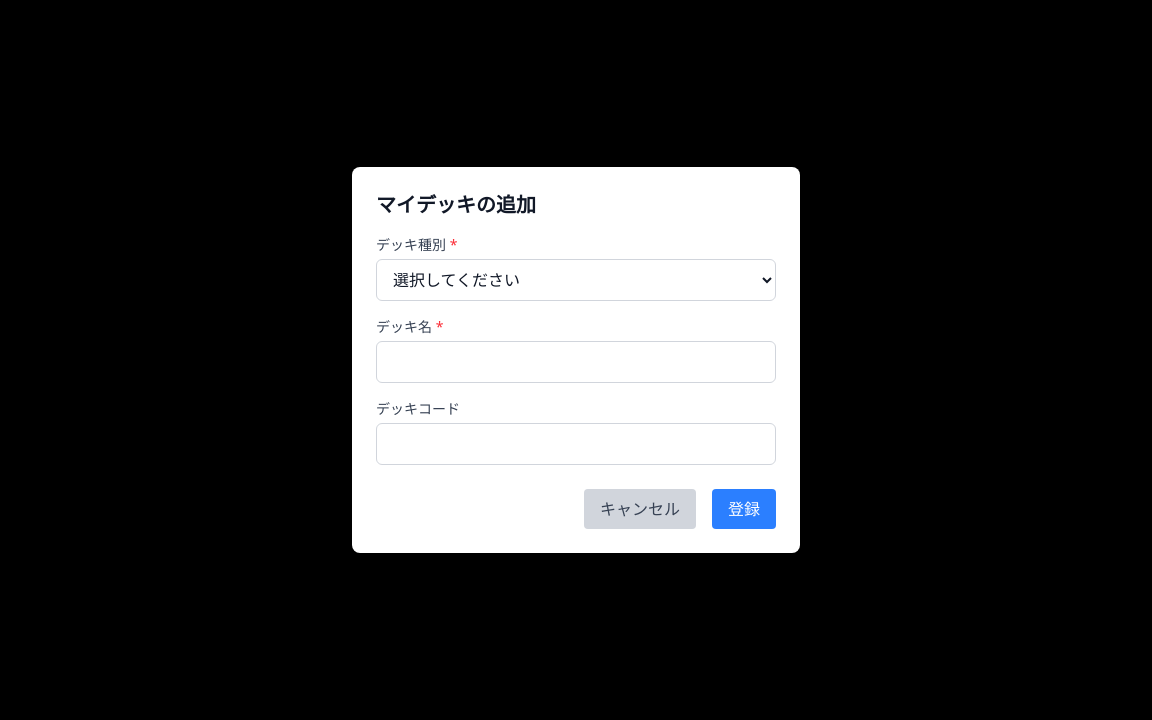
MyDeckDialog › バリデーション › TC-MD-DIALOG-006: deckId未選択で登録ボタン押下時にエラー表示
// 【デッキ名入力】: デッキ名を入力してdeckIdは未選択
Type "テストデッキ" into the field labelled "デッキ名 *". click: (576, 362)
box: [376,341,776,383]
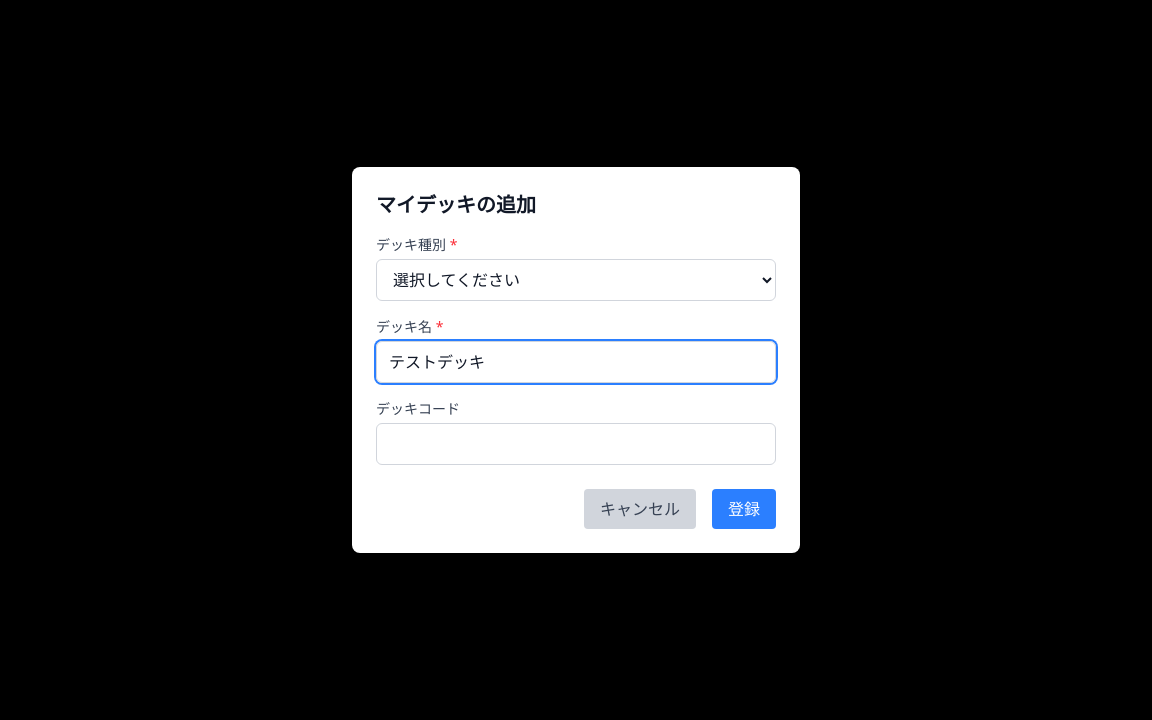
// 【登録ボタンクリック】: 登録ボタンを押す
Click the button "登録". click: (744, 509)
box: [712,489,776,529]
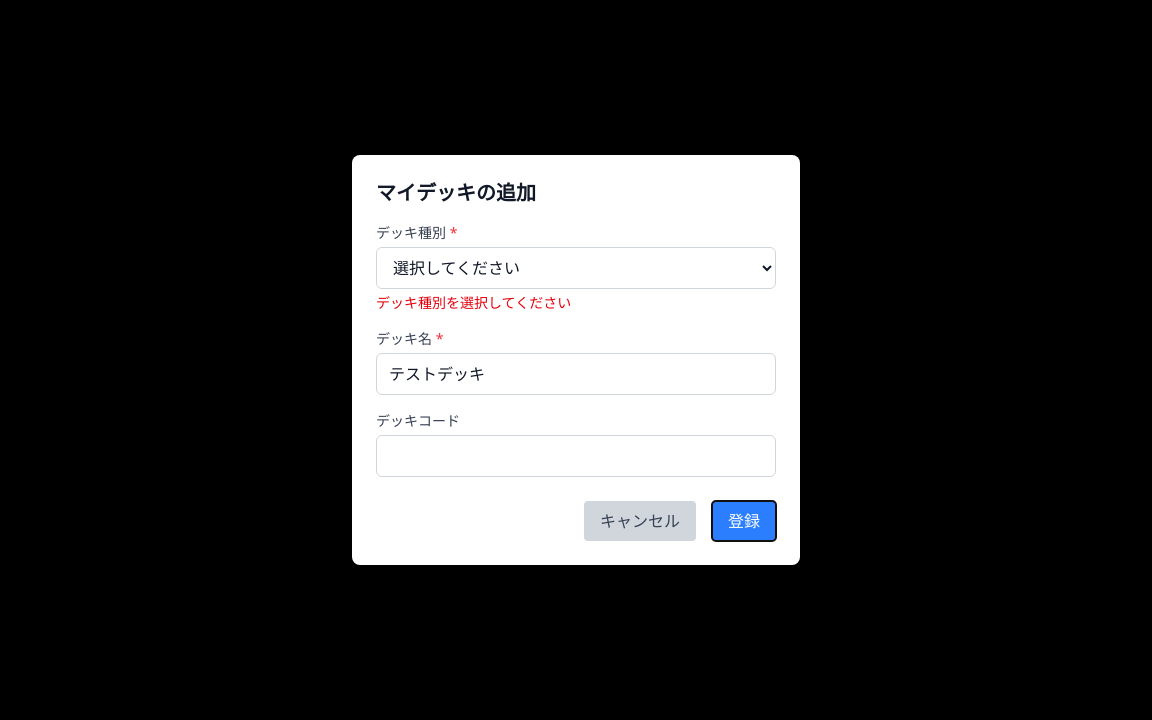
expect the text "デッキ種別を選択してください" is shown: met, box [376,293,571,312]
